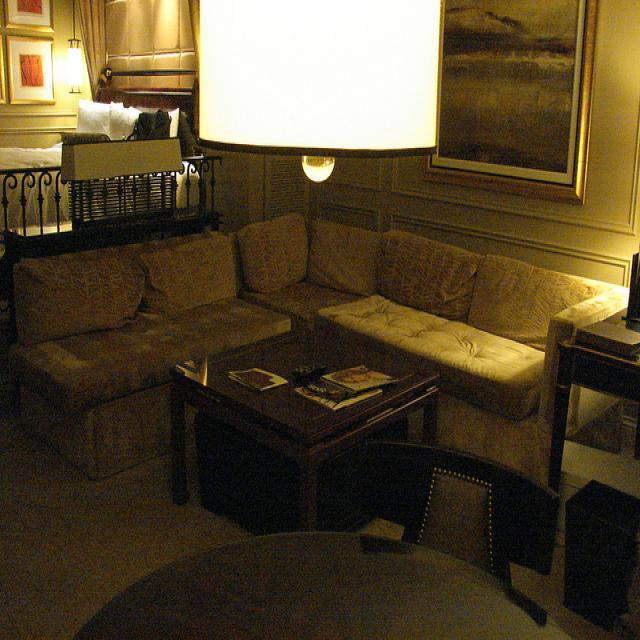Table: (55, 507, 570, 640), (177, 334, 455, 512), (559, 279, 640, 471)
chair: (9, 232, 623, 447), (363, 421, 570, 597)
